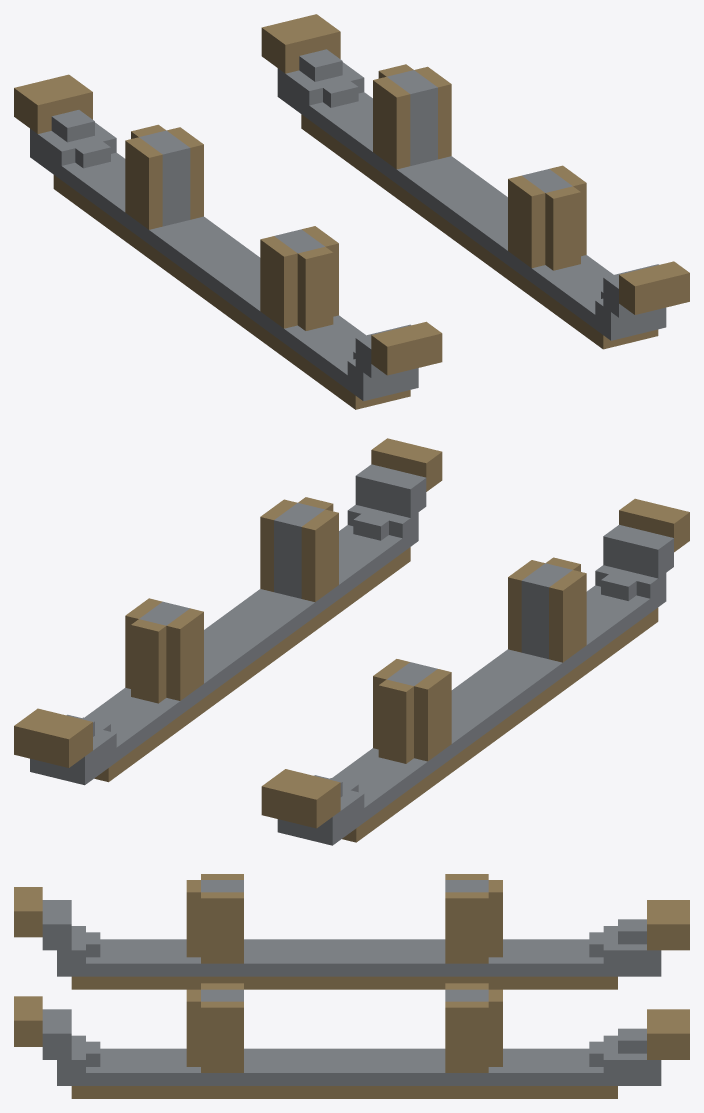
The model's file is skids.glb.
3 views of the same model, one above another, from view 1: azimuth 30°, elevation 25°; view 2: azimuth 150°, elevation 25°; view 3: azimuth 270°, elevation 25° (orthographic). The views are drawn at different scales.
Size of the model in its own units: 22 by 7 by 47.
